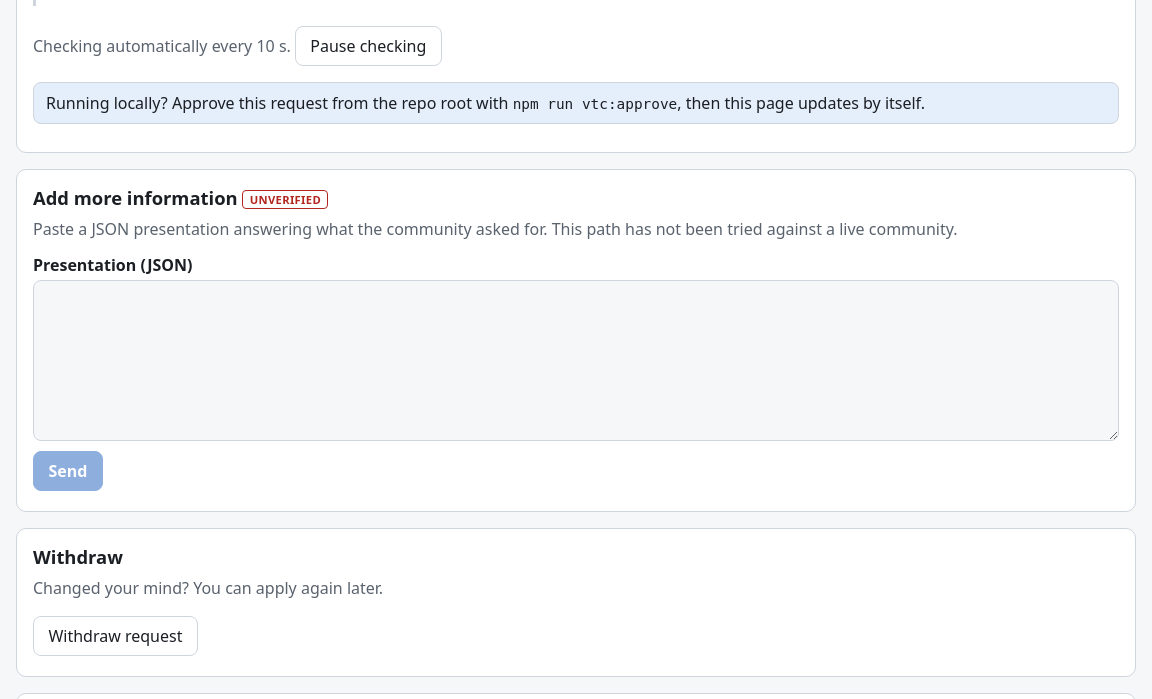
Scenario: in review › a request that needs more information offers the supplement form (unverified path)
The image size is (1152, 699).
(page scrolled)
Type "not json" into the text box labelled "Presentation (JSON)". click: {"x": 576, "y": 360}
box: x1=33 y1=280 x2=1119 y2=441
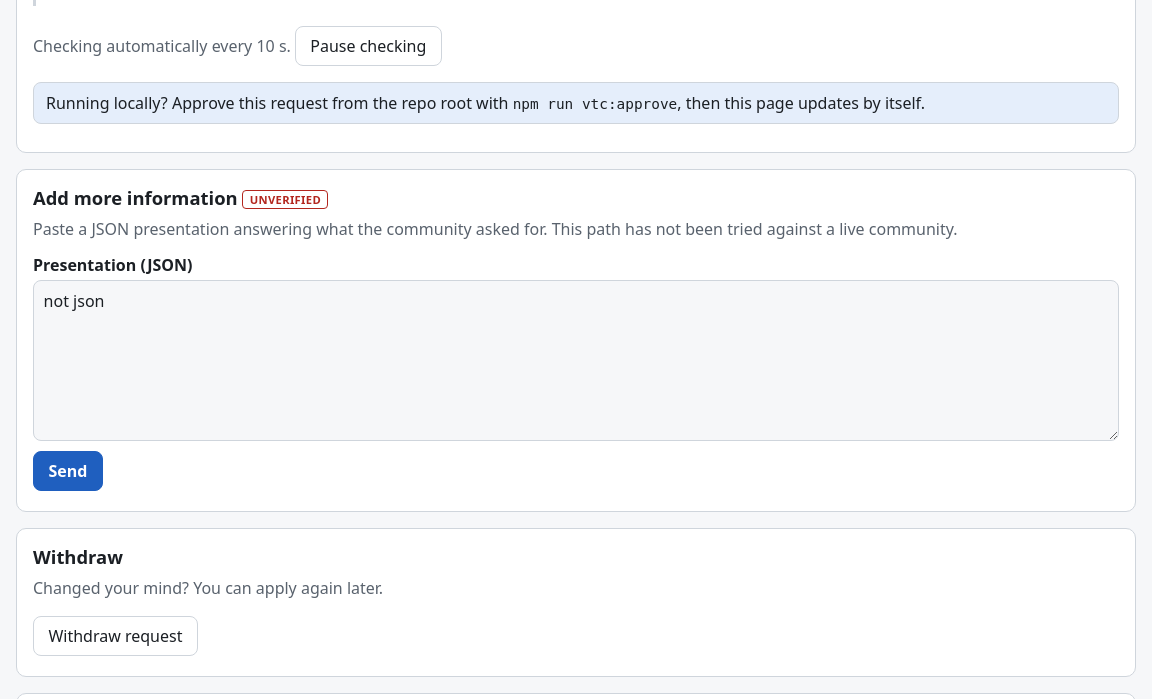
Click the button "Send". click: {"x": 68, "y": 471}
box: x1=33 y1=451 x2=103 y2=491
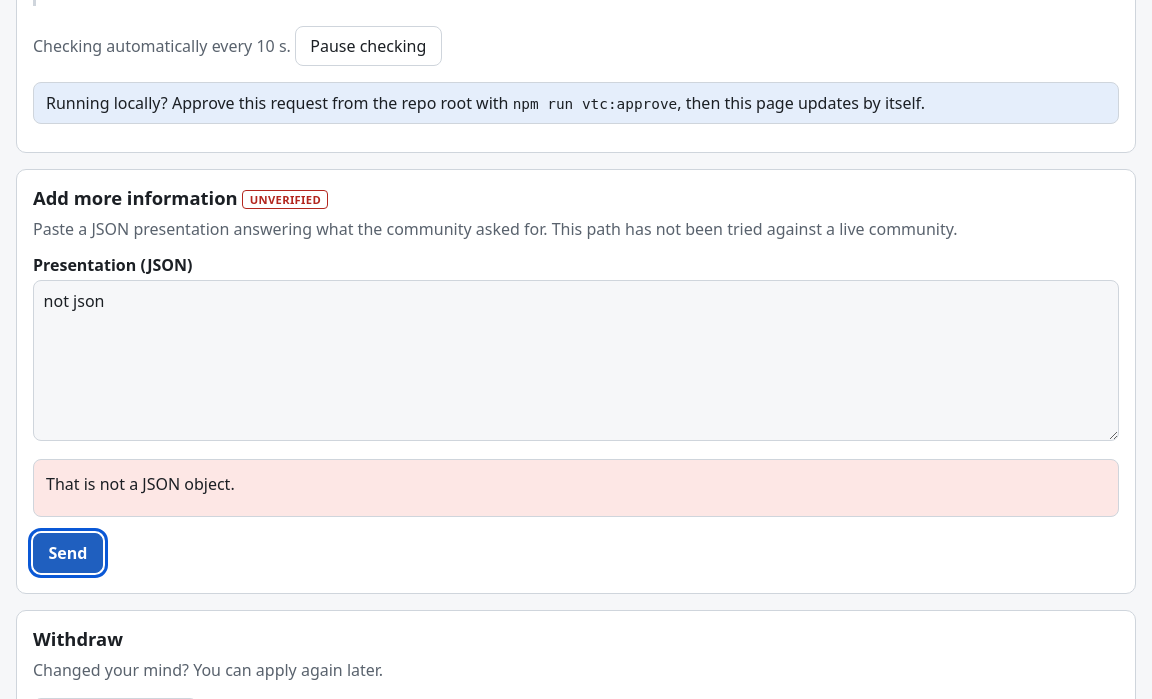
Now the text "That is not a JSON object." is shown, box x1=46 y1=473 x2=235 y2=495
